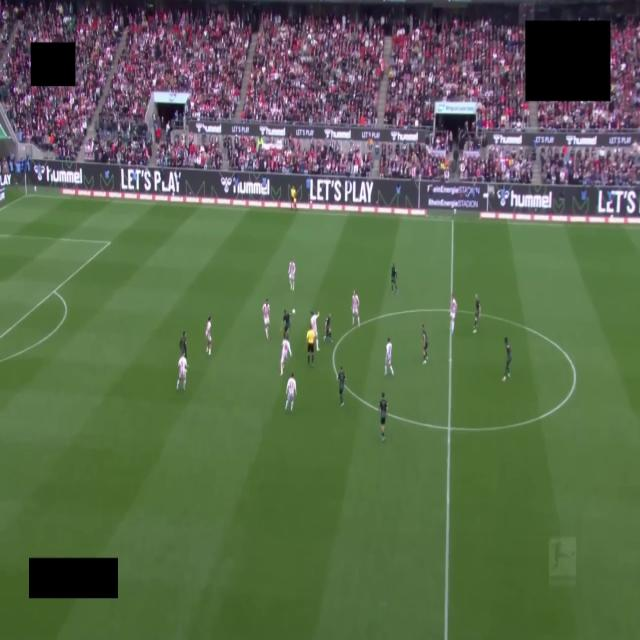ball: (292, 309, 295, 314)
player: (285, 373, 296, 411), (176, 354, 187, 390), (379, 392, 387, 441), (281, 338, 291, 375), (503, 337, 511, 381), (385, 338, 394, 375), (337, 367, 345, 407), (311, 312, 319, 351), (352, 290, 360, 327), (262, 299, 269, 339), (473, 295, 480, 333), (450, 294, 456, 334), (324, 314, 332, 343), (422, 324, 427, 364), (283, 310, 290, 338), (206, 317, 211, 355), (289, 260, 295, 290), (391, 264, 397, 293), (180, 332, 186, 357)
referee: (306, 327, 316, 366)
